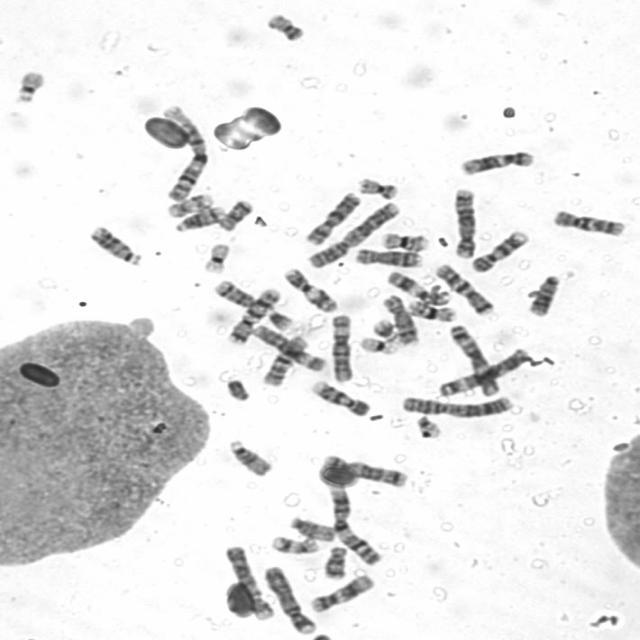A1: (157, 100, 211, 204), (326, 484, 383, 565)
A2: (304, 199, 402, 269), (396, 391, 516, 419)
A3: (435, 345, 533, 398), (445, 321, 502, 398)
B4: (260, 562, 318, 636), (223, 545, 276, 621)
B5: (316, 452, 409, 488), (449, 187, 478, 260)
C10: (259, 332, 310, 388), (550, 207, 627, 238)
C11: (280, 265, 340, 313), (384, 269, 452, 306)
C12: (306, 571, 376, 614), (456, 148, 537, 178)
C6: (249, 323, 327, 372), (326, 312, 355, 384)
C7: (224, 284, 282, 345), (432, 261, 494, 317)
C8: (380, 292, 419, 347), (352, 246, 424, 269)
C9: (468, 228, 531, 274), (308, 378, 372, 418)
D13: (88, 223, 144, 267), (524, 271, 562, 317)
D14: (172, 203, 226, 234), (210, 276, 257, 309)
D15: (225, 436, 274, 478), (287, 514, 335, 541)
E16: (404, 297, 458, 323), (378, 230, 431, 252)
E17: (164, 191, 216, 218), (268, 533, 322, 556)
E18: (215, 197, 255, 232), (321, 543, 350, 580)
F19: (201, 240, 232, 274), (356, 335, 400, 355)
F20: (263, 10, 307, 42), (354, 175, 400, 200)
G21: (263, 305, 295, 331), (369, 316, 398, 342)
G22: (11, 68, 48, 104), (413, 413, 443, 439)
X: (302, 189, 362, 247)
Y: (224, 377, 252, 402)
